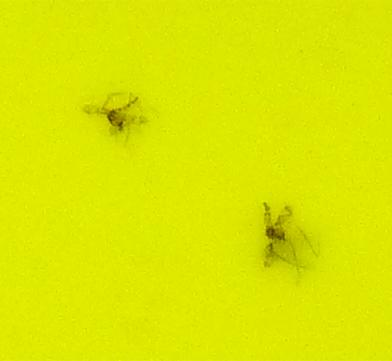Nematocera: (262, 203, 292, 261), (100, 100, 133, 133)
